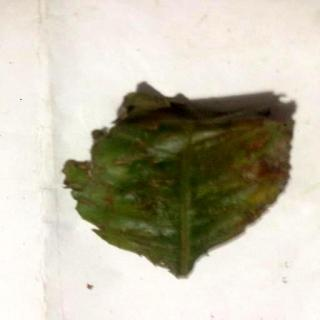Red Leaf Spot: (63, 92, 292, 279)
